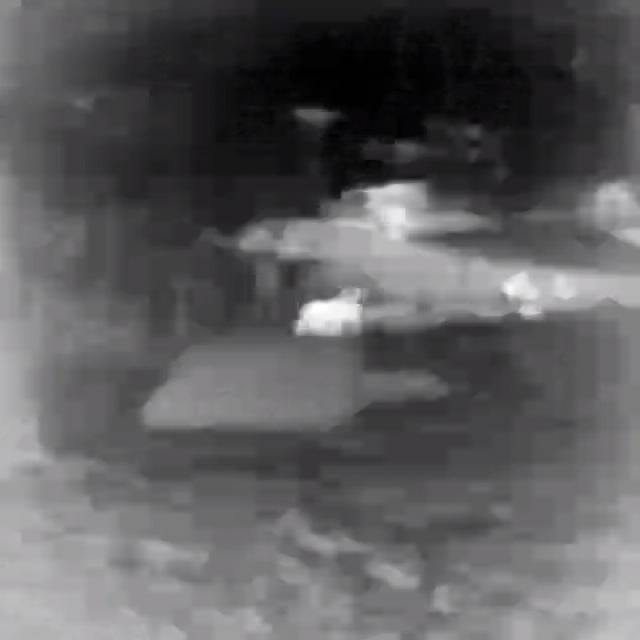cheetah: (295, 288, 364, 335)
